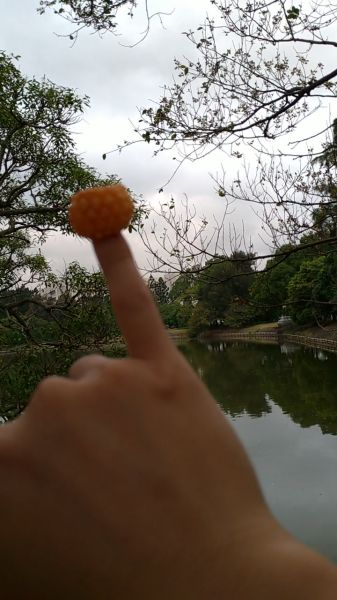eggs: (69, 182, 136, 239)
